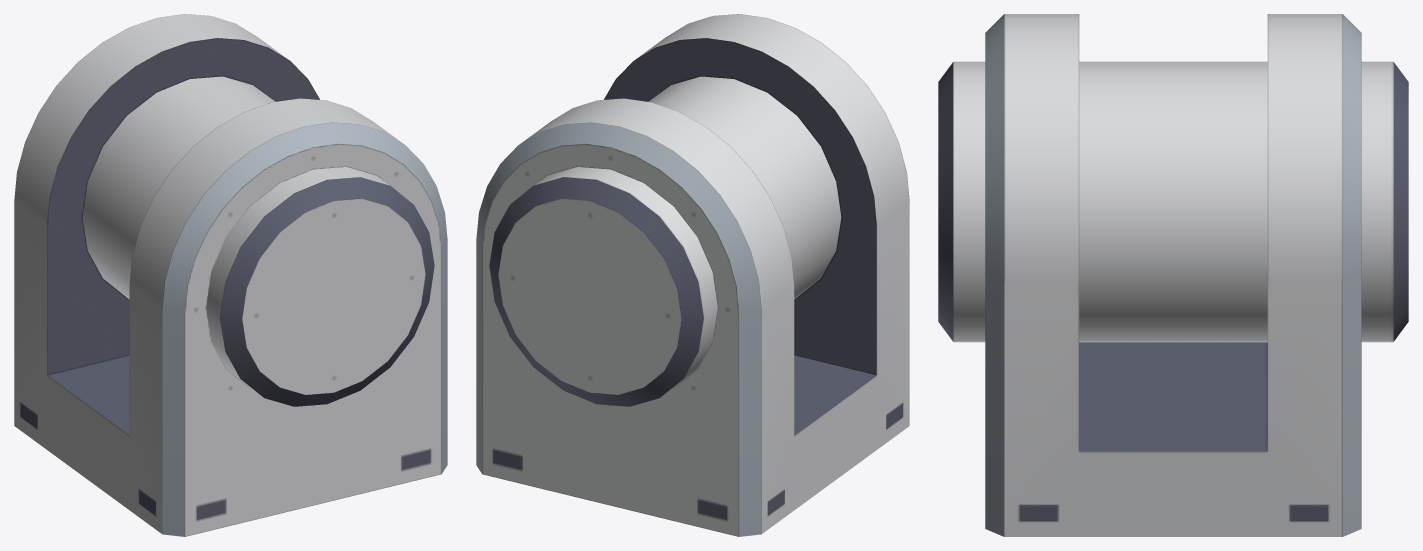
File: Radar_Part_03.FBX
3 views of the same model, side by side, from view 1: azimuth 30°, elevation 25°; view 2: azimuth 150°, elevation 25°; view 3: azimuth 270°, elevation 25° (orthographic). The views are drawn at different scales.
Parts seen in each view (by area): view 1: Radar_Part_03; view 2: Radar_Part_03; view 3: Radar_Part_03.
Boxes of the visible parts, box(x1,y1,x2,y2) form: Radar_Part_03: box(14, 14, 447, 536); Radar_Part_03: box(476, 14, 909, 536); Radar_Part_03: box(938, 14, 1408, 536).
Bounding box in the file's own units: 2 × 2.5 × 2.5.
3 materials, 3 textured.
